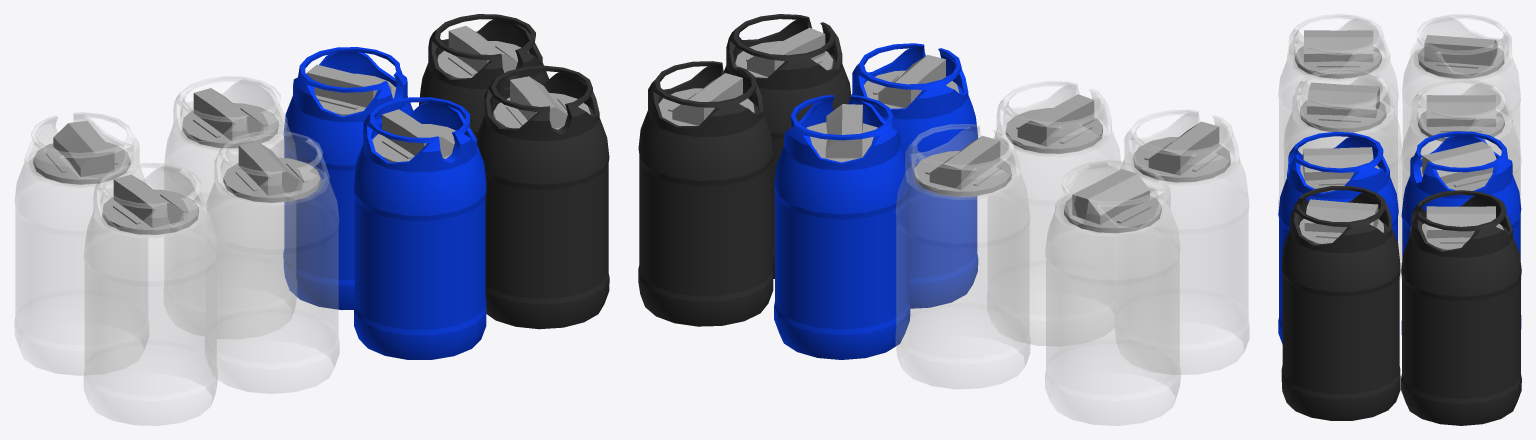
File: BeerKeg_byk96e_Pack01.fbx
The picture shows the model from 3 angles, left to right: view 1: azimuth 30°, elevation 25°; view 2: azimuth 150°, elevation 25°; view 3: azimuth 270°, elevation 25°; orthographic projection. The views are drawn at different scales.
Visible parts, largest first — view 1: BeerKeg_byk96e_Pack01; view 2: BeerKeg_byk96e_Pack01; view 3: BeerKeg_byk96e_Pack01.
Boxes of the visible parts, bbox=[...] form: BeerKeg_byk96e_Pack01: bbox=[14, 14, 609, 425]; BeerKeg_byk96e_Pack01: bbox=[638, 14, 1249, 425]; BeerKeg_byk96e_Pack01: bbox=[1278, 14, 1521, 425].
Bounding box in the file's own units: 96.48 × 38.22 × 43.74.
